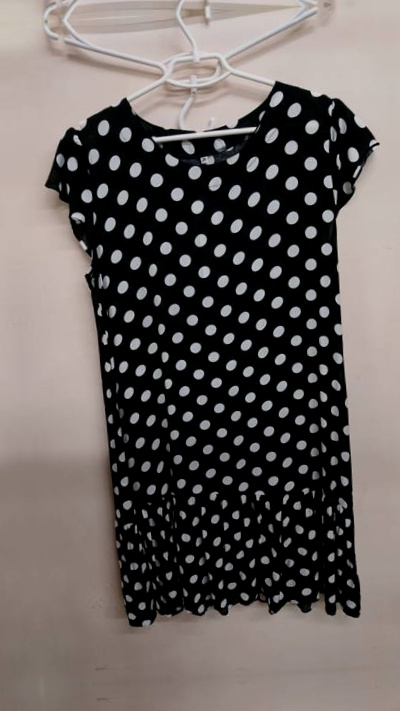Dress: (47, 53, 400, 641), (391, 32, 400, 621), (87, 709, 400, 711)
